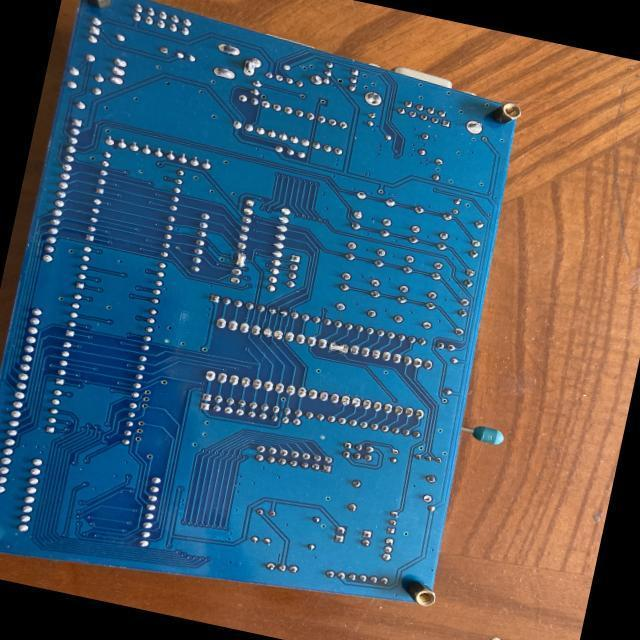damged: (327, 340, 350, 354), (232, 249, 248, 268)
